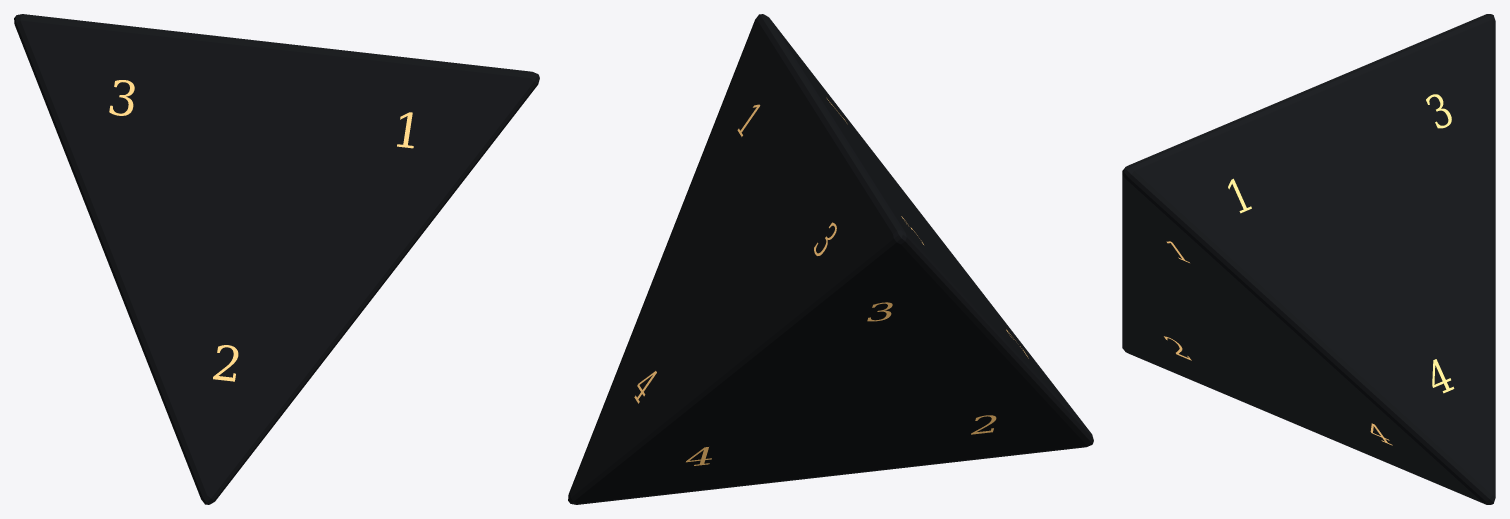
The model's file is d4_boolean_engraved.glb.
3 renders of one model, left to right at view 1: azimuth 30°, elevation 25°; view 2: azimuth 150°, elevation 25°; view 3: azimuth 270°, elevation 25°, orthographic. The views are drawn at different scales.
Visible parts, largest first — view 1: Sculpted_Obsidian, Recessed_Bronze_Number_Geometry; view 2: Sculpted_Obsidian, Recessed_Bronze_Number_Geometry; view 3: Sculpted_Obsidian, Recessed_Bronze_Number_Geometry.
Boxes of the visible parts, left/top/right/bottom form: Sculpted_Obsidian: left=14, top=14, right=539, bottom=504; Recessed_Bronze_Number_Geometry: left=109, top=80, right=413, bottom=381; Sculpted_Obsidian: left=568, top=14, right=1093, bottom=504; Recessed_Bronze_Number_Geometry: left=634, top=99, right=1028, bottom=465; Sculpted_Obsidian: left=1122, top=14, right=1495, bottom=504; Recessed_Bronze_Number_Geometry: left=1164, top=94, right=1454, bottom=445.
Size of the model in its own units: 1.1 by 1.1 by 1.1.
Materials: 2 (1 with a texture image).
